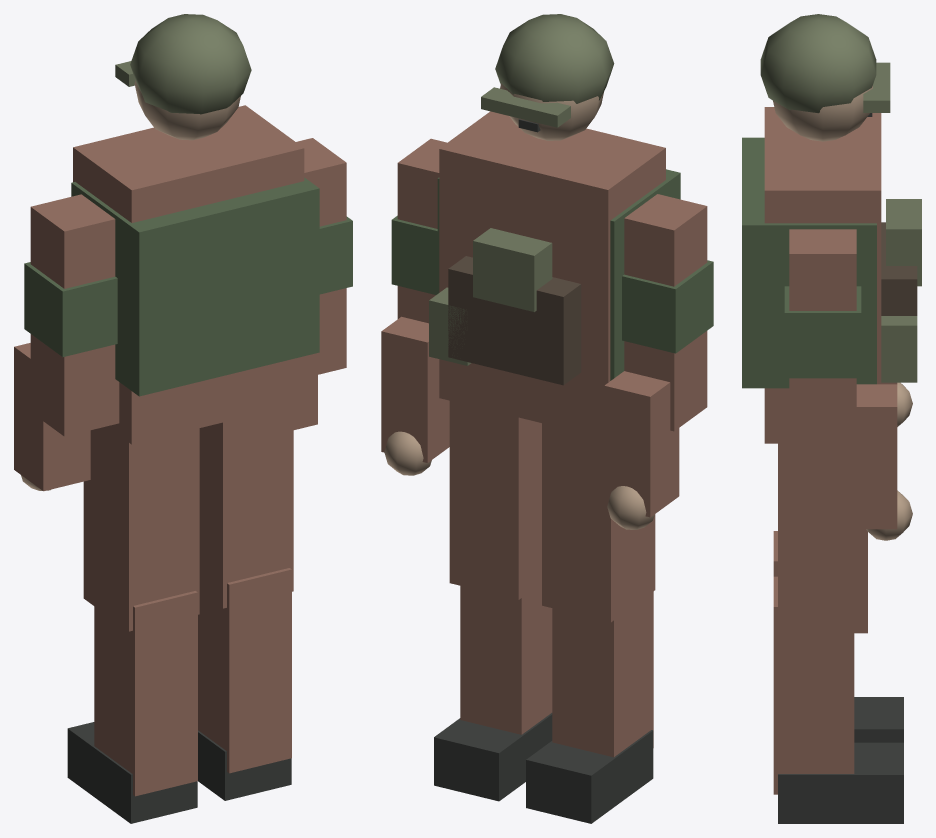
File: c_conscript.glb
The picture shows the model from 3 angles, left to right: view 1: azimuth 30°, elevation 25°; view 2: azimuth 150°, elevation 25°; view 3: azimuth 270°, elevation 25°; orthographic projection. The views are drawn at different scales.
Parts seen in each view (by area): view 1: torso, leg_l, leg_r, arm_l, head, arm_r; view 2: torso, leg_l, leg_r, arm_l, arm_r, head; view 3: leg_r, torso, arm_r, head, leg_l, arm_l.
Part boxes in pixels (x1,y1,x2,y2): torso: (71, 105, 319, 444); leg_l: (67, 426, 199, 823); leg_r: (198, 405, 293, 800); arm_l: (14, 194, 119, 491); head: (115, 14, 251, 140); arm_r: (293, 138, 352, 429); torso: (429, 111, 680, 438); leg_l: (526, 423, 655, 823); leg_r: (434, 401, 552, 801); arm_l: (604, 194, 713, 529); arm_r: (381, 138, 449, 475); head: (481, 14, 614, 140); leg_r: (773, 443, 903, 823); torso: (742, 107, 921, 443); arm_r: (784, 229, 912, 540); head: (760, 14, 890, 141); leg_l: (773, 531, 903, 742); arm_l: (881, 382, 912, 426).
Size of the model in its own units: 0.74 by 1.87 by 0.4.
